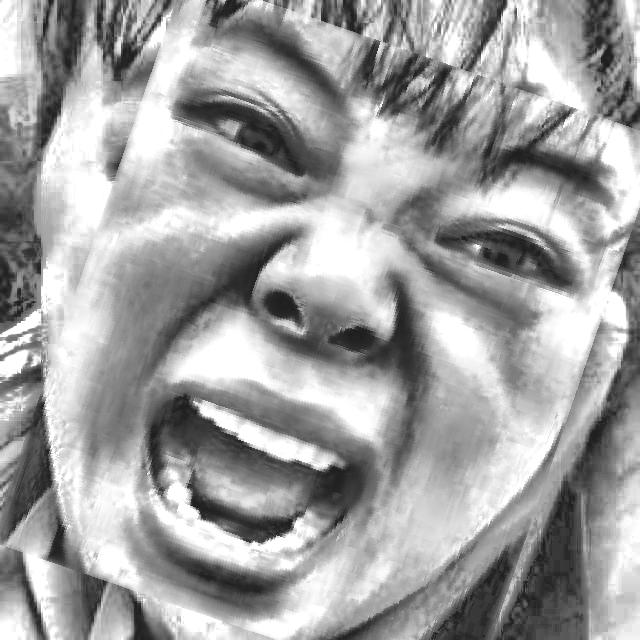angry: (32, 7, 621, 640)
